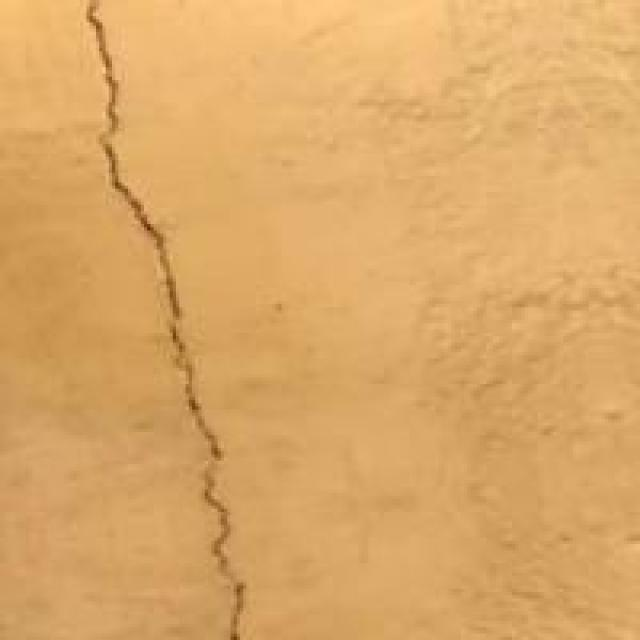Crack: (54, 0, 310, 637)
